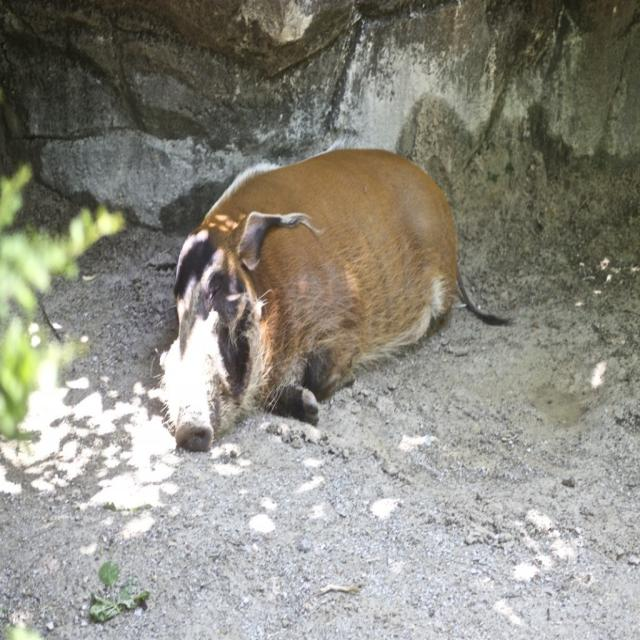Pig: (154, 139, 516, 452)
